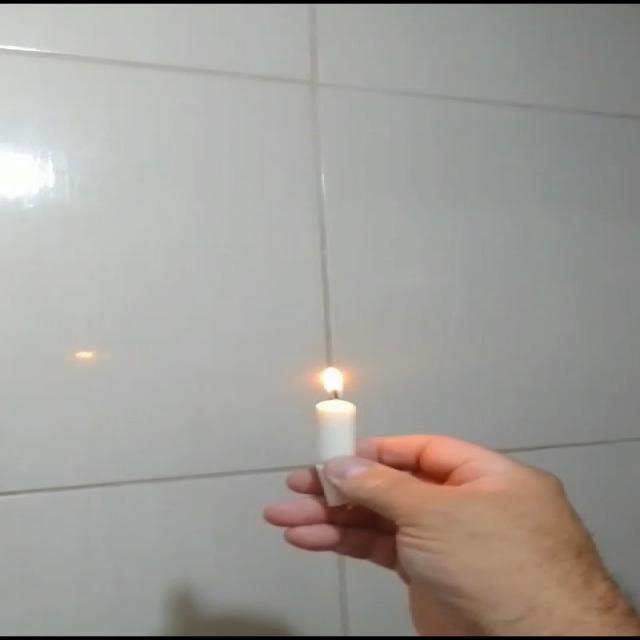fire: (315, 364, 352, 398)
